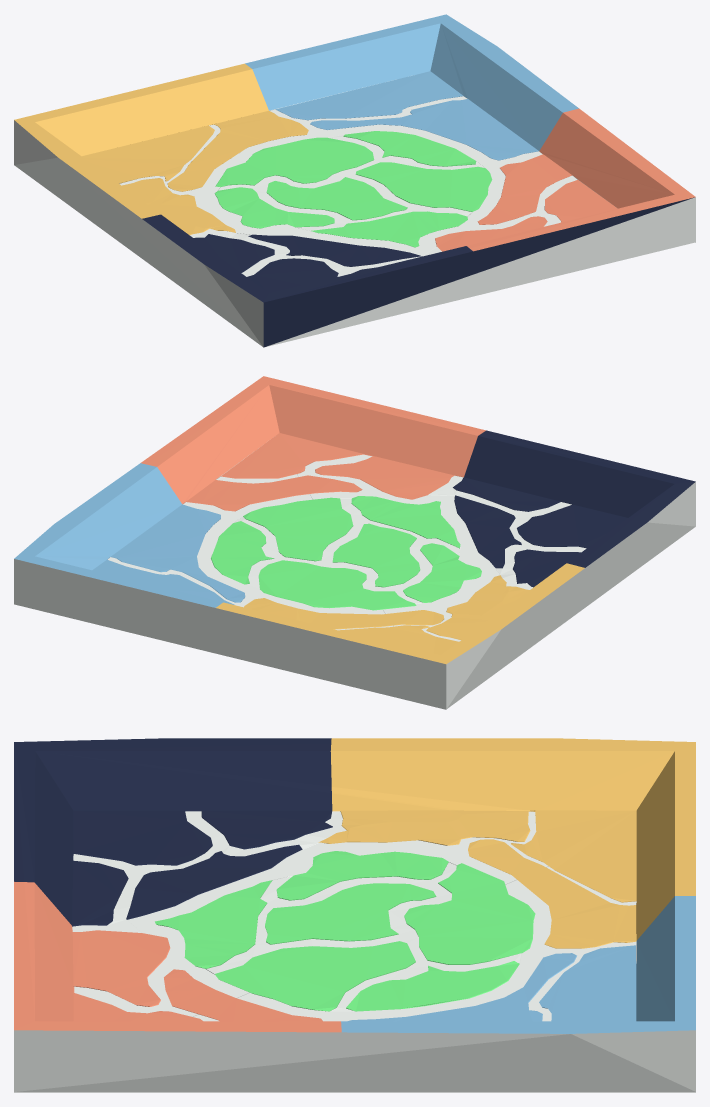
The model's file is Ground 2.fbx.
3 renders of one model, top to bottom at view 1: azimuth 30°, elevation 25°; view 2: azimuth 150°, elevation 25°; view 3: azimuth 270°, elevation 25°, orthographic. The views are drawn at different scales.
Visible parts, largest first — view 1: Ground 1; view 2: Ground 1; view 3: Ground 1.
Part boxes in pixels (x1,y1,x2,y2): Ground 1: (14,14,695,347); Ground 1: (14,376,695,709); Ground 1: (14,738,695,1092).
Bounding box in the file's own units: 10144 × 998 × 9893.
